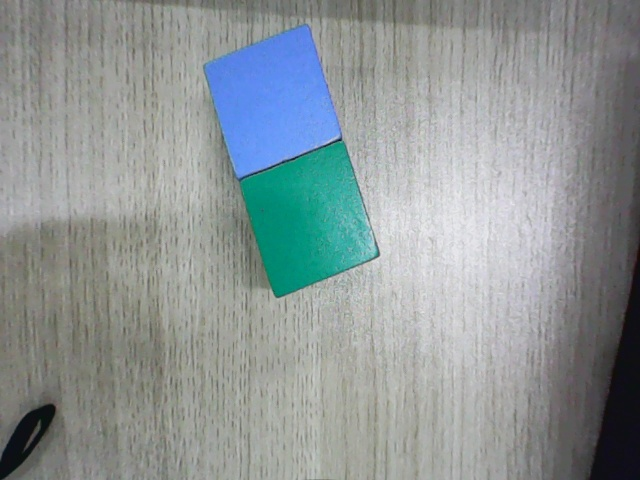upside of big cube: (240, 140, 381, 300), (203, 23, 343, 181)
